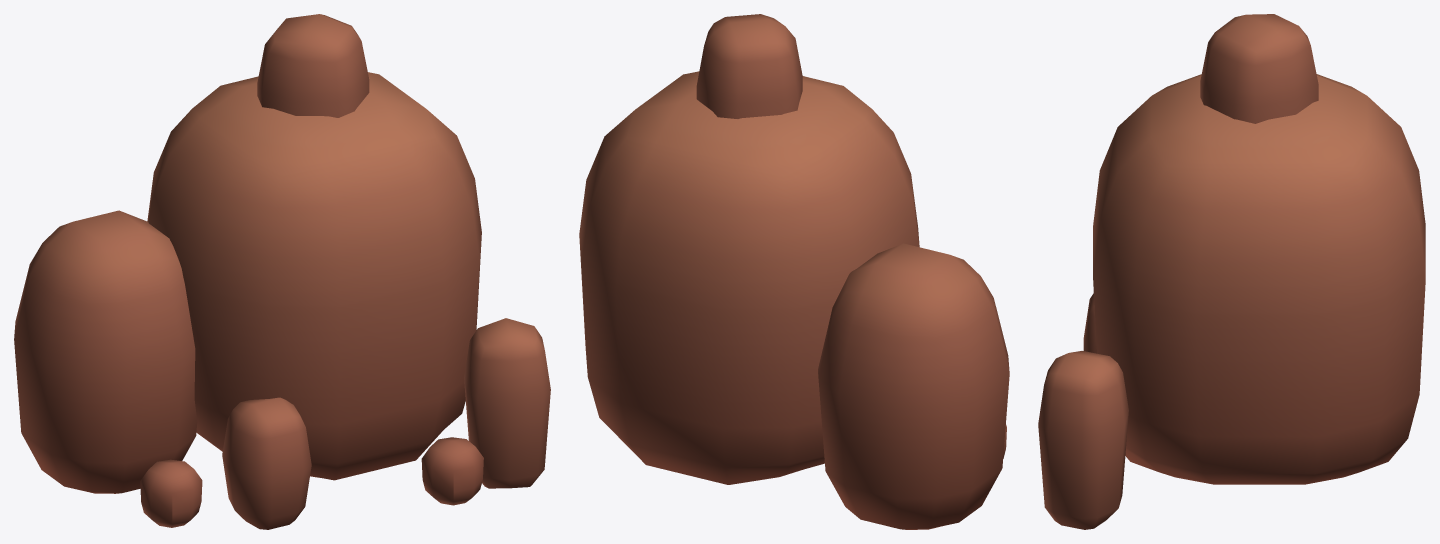
File: Rock_6_H_Color2.fbx
3 views of the same model, side by side, from view 1: azimuth 30°, elevation 25°; view 2: azimuth 150°, elevation 25°; view 3: azimuth 270°, elevation 25° (orthographic). The views are drawn at different scales.
Parts seen in each view (by area): view 1: Rock_6_H_Color2; view 2: Rock_6_H_Color2; view 3: Rock_6_H_Color2.
Part boxes in pixels (bbox=[...]): Rock_6_H_Color2: bbox=[14, 14, 550, 529]; Rock_6_H_Color2: bbox=[579, 14, 1009, 529]; Rock_6_H_Color2: bbox=[1038, 14, 1425, 529].
Size of the model in its own units: 2.25 by 2.22 by 1.76.
